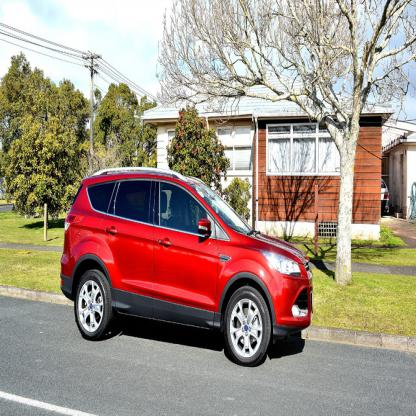Car: (60, 167, 313, 367)
